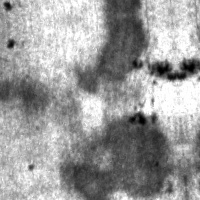inclusion: (134, 56, 176, 85), (126, 101, 158, 128)
patches: (61, 115, 172, 199), (72, 14, 149, 90), (0, 73, 48, 112)
